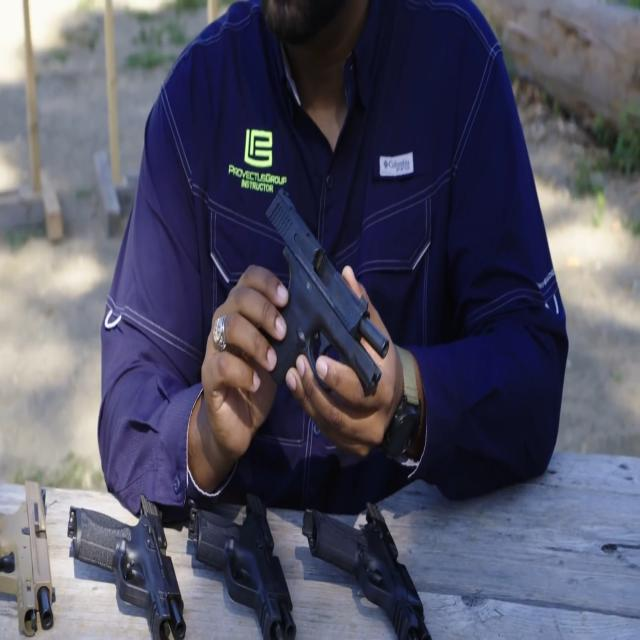handgun: (262, 179, 390, 441), (291, 472, 439, 639), (183, 457, 307, 637), (62, 485, 192, 637), (0, 448, 63, 640)
